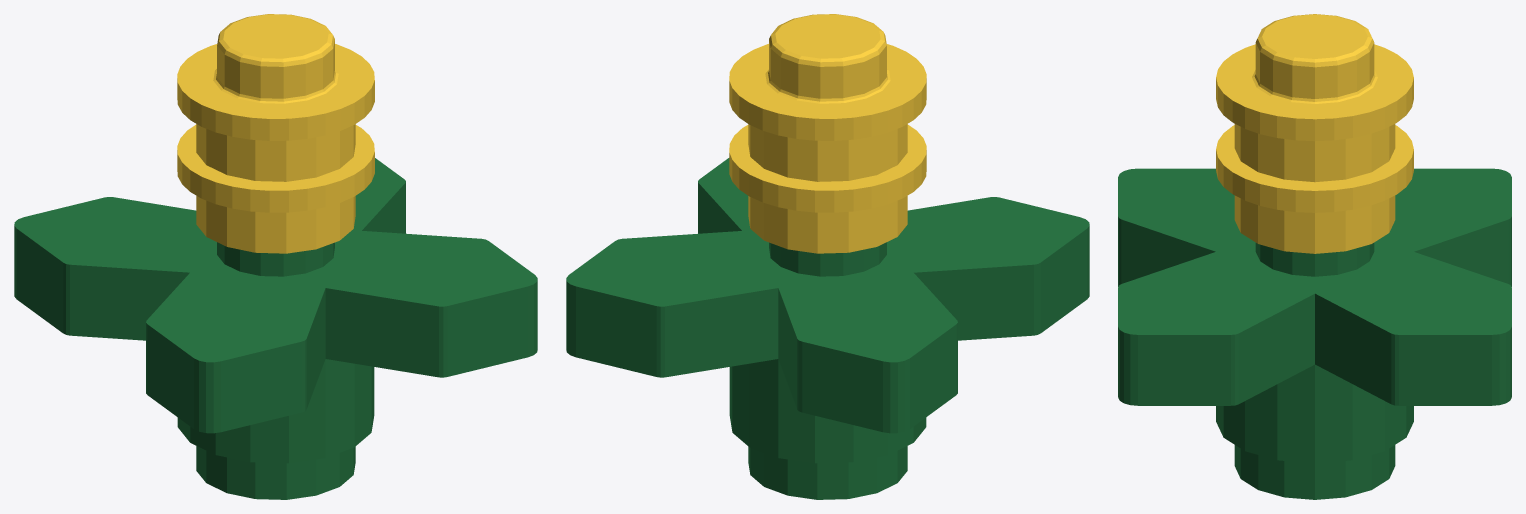
File: flower_yellow.glb
The picture shows the model from 3 angles, left to right: view 1: azimuth 30°, elevation 25°; view 2: azimuth 150°, elevation 25°; view 3: azimuth 270°, elevation 25°; orthographic projection.
Parts seen in each view (by area): view 1: flower_yellow; view 2: flower_yellow; view 3: flower_yellow.
Boxes of the visible parts, box(x1,y1,x2,y2) form: flower_yellow: box(14, 14, 537, 499); flower_yellow: box(566, 14, 1089, 499); flower_yellow: box(1118, 14, 1511, 499).
Bounding box in the file's own units: 0.7562 × 0.9101 × 0.7562.
